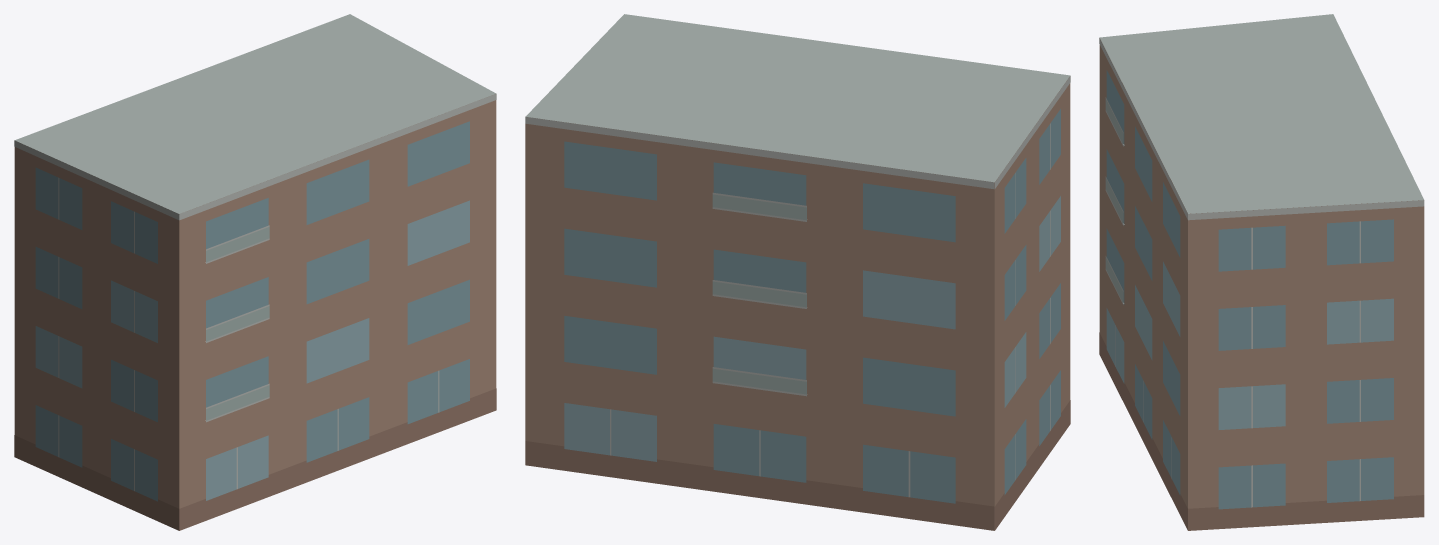
Rendered from survey-upis-32981042.glb.
The picture shows the model from 3 angles, left to right: view 1: azimuth 30°, elevation 25°; view 2: azimuth 150°, elevation 25°; view 3: azimuth 270°, elevation 25°; orthographic projection. The views are drawn at different scales.
Visible parts, largest first — view 1: survey-upis-32981042.tmp; view 2: survey-upis-32981042.tmp; view 3: survey-upis-32981042.tmp.
Part boxes in pixels (bbox=[...]): survey-upis-32981042.tmp: bbox=[14, 14, 496, 530]; survey-upis-32981042.tmp: bbox=[525, 14, 1070, 530]; survey-upis-32981042.tmp: bbox=[1099, 14, 1424, 530].
Size of the model in its own units: 16.51 by 12.2 by 11.34.
